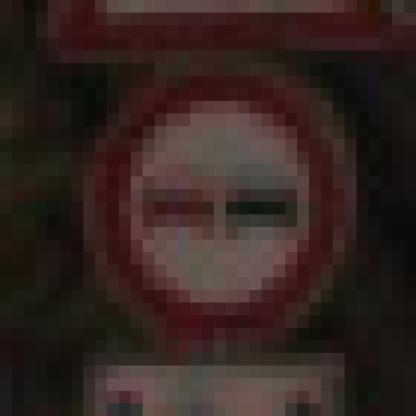No Overtaking: (72, 77, 358, 354)
